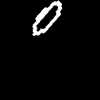chain: (33, 1, 61, 35)
